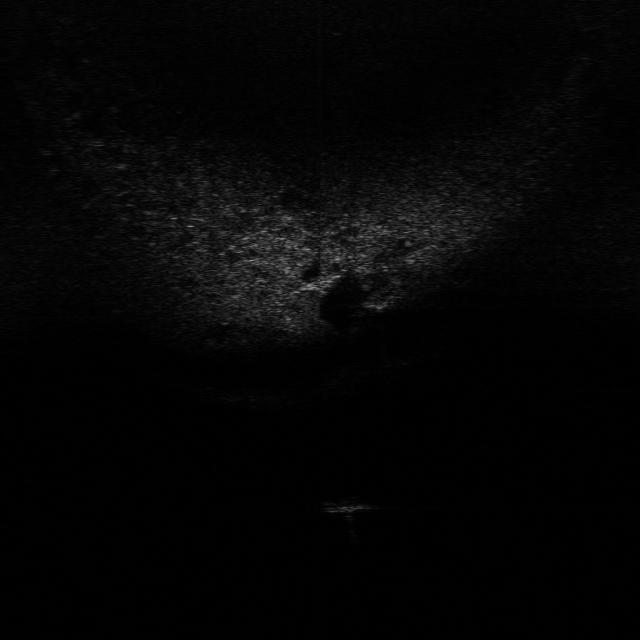cube: (317, 492, 379, 517)
